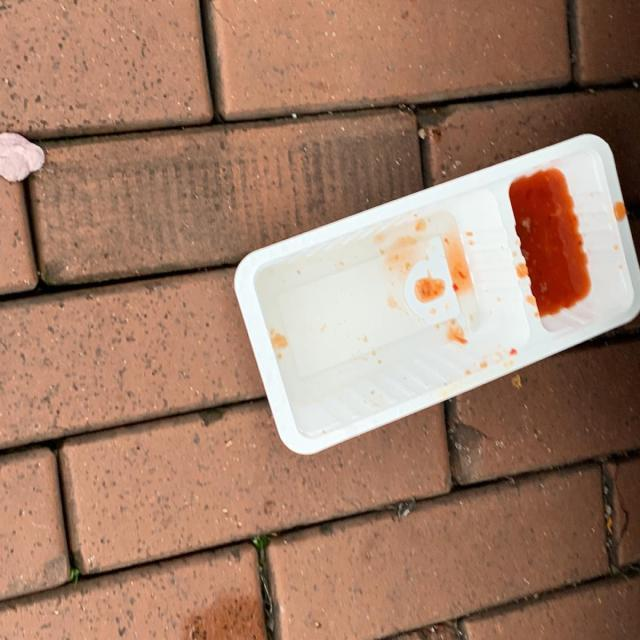Plastic: (229, 132, 639, 462)
